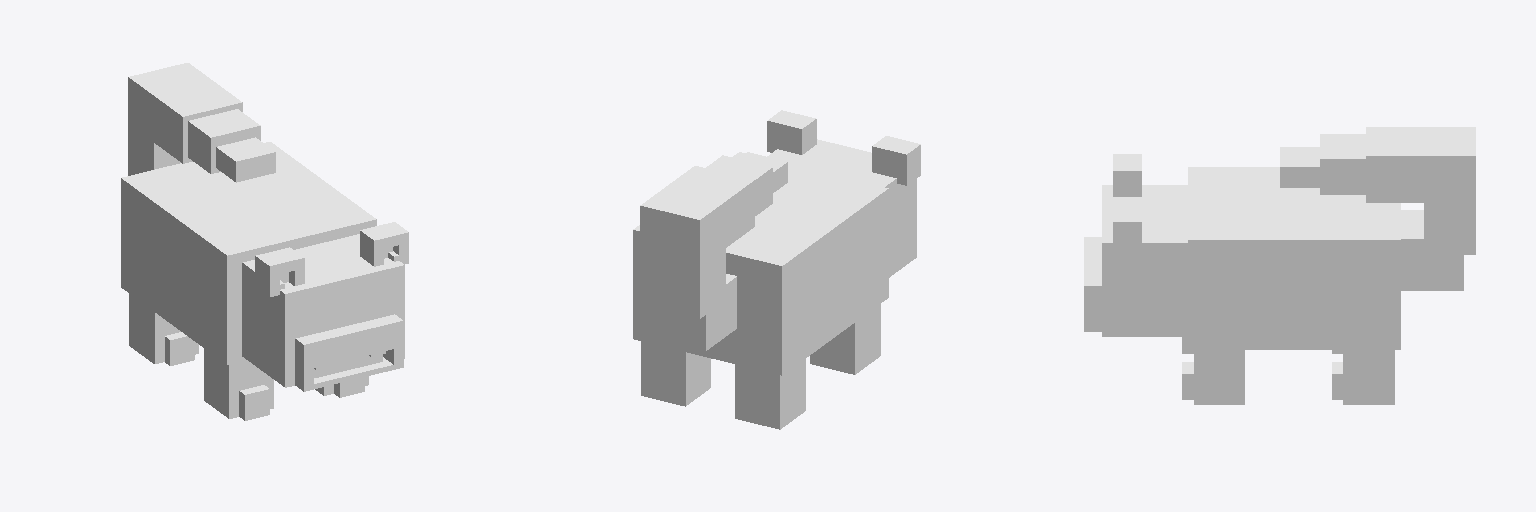
Rendered from slowth.obj.
3 views of the same model, side by side, from view 1: azimuth 30°, elevation 25°; view 2: azimuth 150°, elevation 25°; view 3: azimuth 270°, elevation 25° (orthographic).
Visible parts, largest first — view 1: slowth; view 2: slowth; view 3: slowth.
Boxes of the visible parts, box(x1,y1,x2,y2) form: slowth: box(121, 63, 408, 420); slowth: box(633, 110, 920, 429); slowth: box(1084, 127, 1475, 404).
Size of the model in its own units: 30 by 44 by 68.